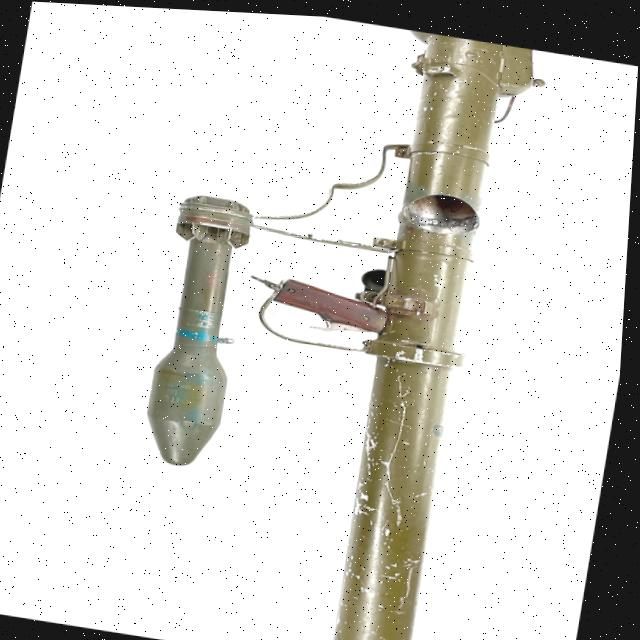grenade: (129, 183, 271, 478)
rocket: (316, 22, 550, 640)
